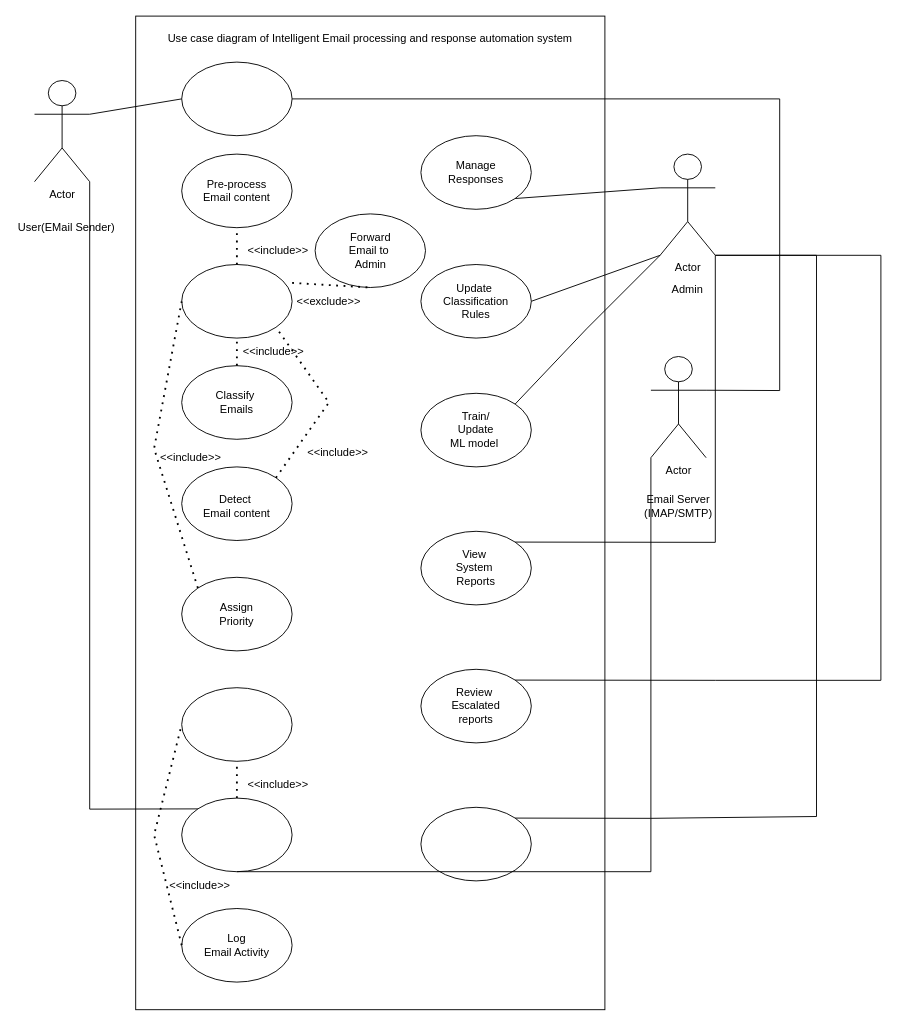
The diagram is 898 pixels wide and 1026 high, and some of its shapes have lost their labels. The centre of each missing label's shape, as x and y in pixels:
Analyse Email content: [236,301]
Configure Email Server: [475,843]
Generate Automated Response: [236,724]
Recieve Emails: [236,98]
Send Automated Reply: [236,834]
